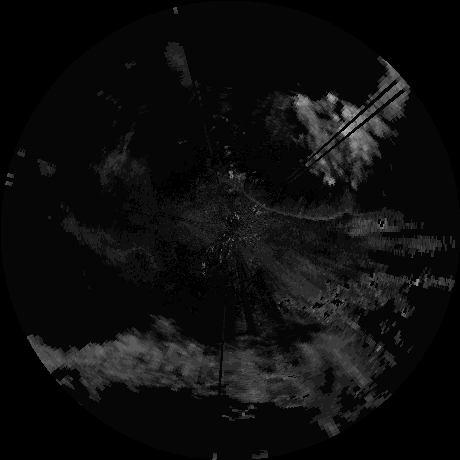frontgust: (245, 185, 354, 223)
